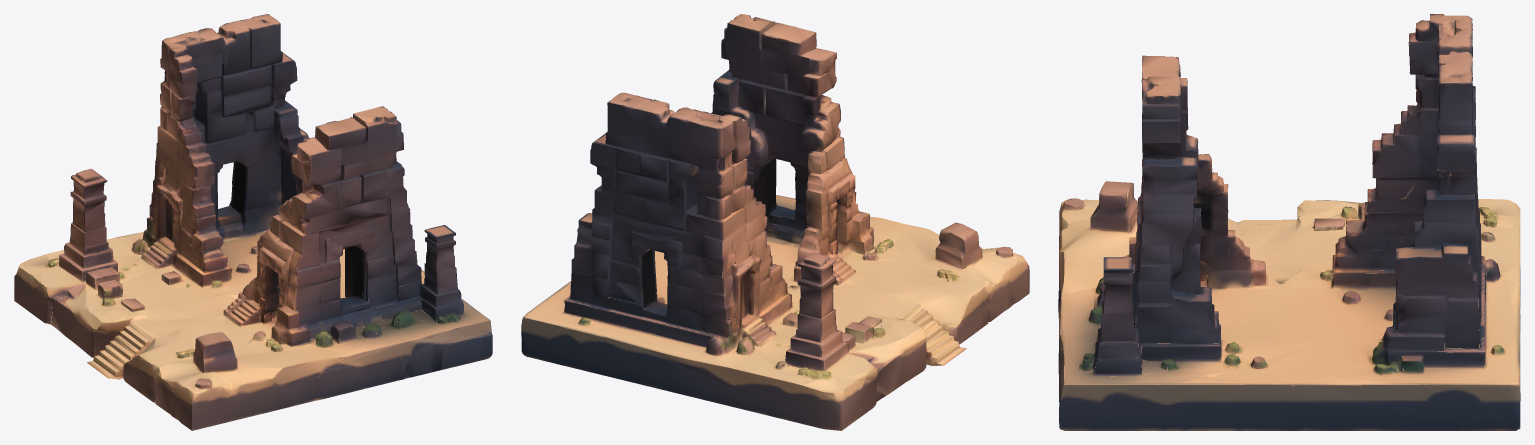
File: desert_relic_1.glb
3 views of the same model, side by side, from view 1: azimuth 30°, elevation 25°; view 2: azimuth 150°, elevation 25°; view 3: azimuth 270°, elevation 25° (orthographic). The views are drawn at different scales.
Parts seen in each view (by area): view 1: node_0; view 2: node_0; view 3: node_0.
Boxes of the visible parts, bbox=[...] form: node_0: bbox=[14, 14, 492, 430]; node_0: bbox=[521, 14, 1029, 430]; node_0: bbox=[1058, 14, 1520, 430].
Size of the model in its own units: 0.7578 by 0.5607 by 0.7579.
Materials: 1 (1 with a texture image).
